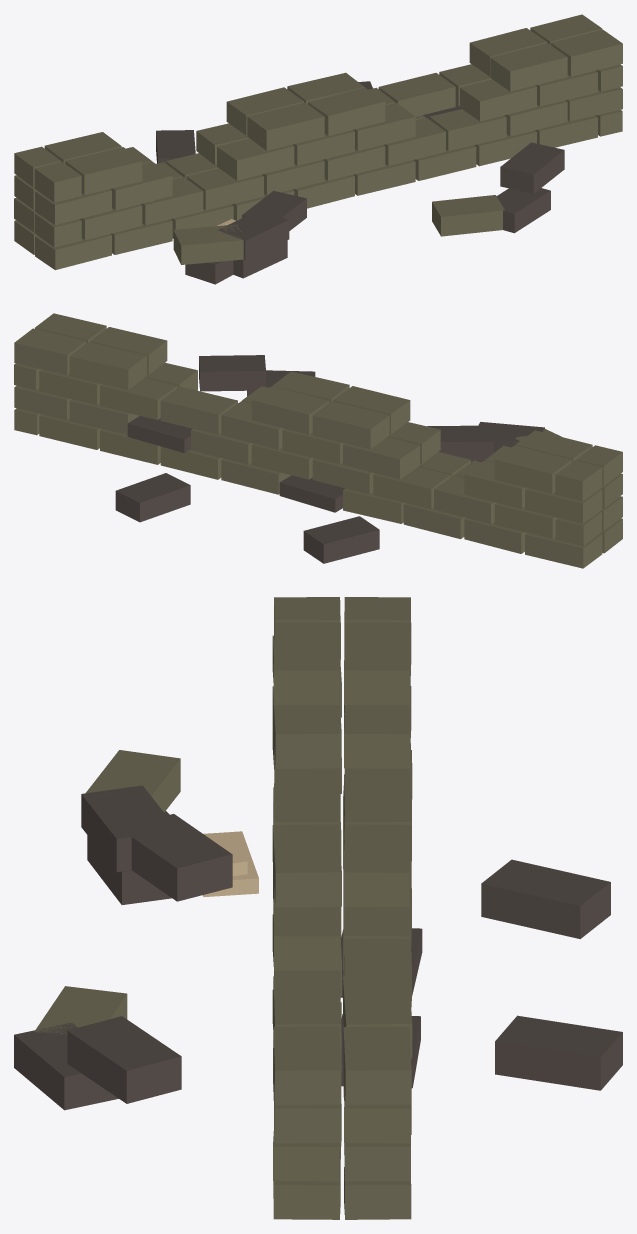
Rendered from SM_MuroSacos_v0_Recto_e1_Danado_LOD0.fbx.
3 renders of one model, top to bottom at view 1: azimuth 30°, elevation 25°; view 2: azimuth 150°, elevation 25°; view 3: azimuth 270°, elevation 25°, orthographic. The views are drawn at different scales.
Visible parts, largest first — view 1: SM_bloques.muro_sacos_estados_v1_LOD0; view 2: SM_bloques.muro_sacos_estados_v1_LOD0; view 3: SM_bloques.muro_sacos_estados_v1_LOD0.
Boxes of the visible parts, <box> form: SM_bloques.muro_sacos_estados_v1_LOD0: <box>14,14,622,284</box>; SM_bloques.muro_sacos_estados_v1_LOD0: <box>14,313,622,568</box>; SM_bloques.muro_sacos_estados_v1_LOD0: <box>14,597,622,1219</box>.
Size of the model in its own units: 7.97 by 1.18 by 4.33.
